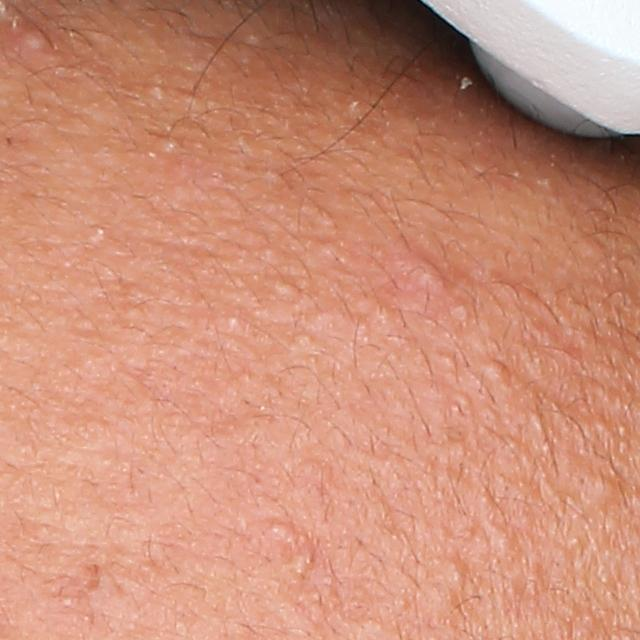comedo: (585, 470, 626, 506), (151, 133, 190, 162), (450, 295, 474, 326), (484, 360, 506, 386), (224, 306, 245, 331), (445, 561, 464, 587)
papule: (408, 254, 455, 294), (21, 23, 56, 57)
